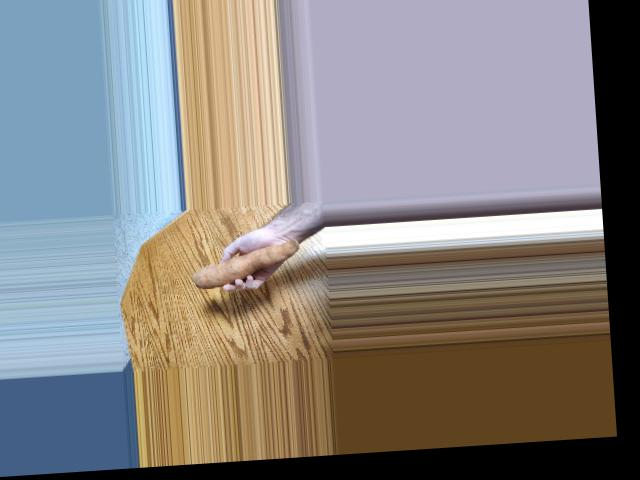sweet_potato: (196, 244, 296, 292)
